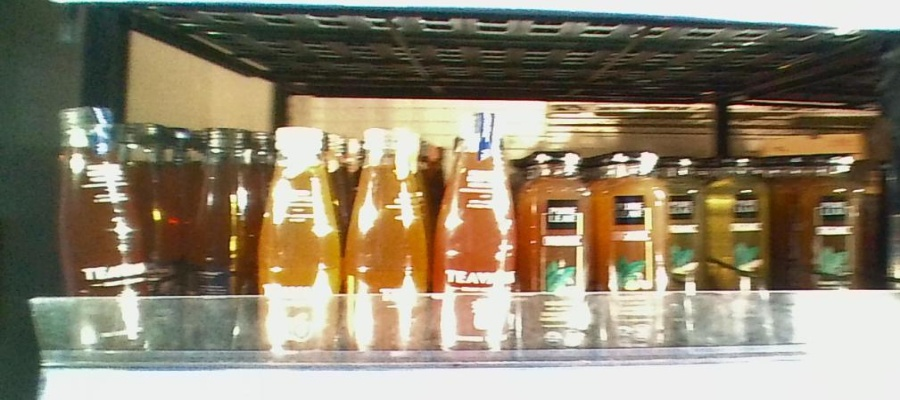bottle: (54, 98, 156, 362), (346, 120, 432, 359), (256, 123, 342, 359), (436, 129, 519, 360), (596, 140, 671, 352), (523, 146, 594, 356), (187, 119, 255, 298), (706, 155, 782, 289), (804, 152, 871, 290), (665, 155, 704, 291)
